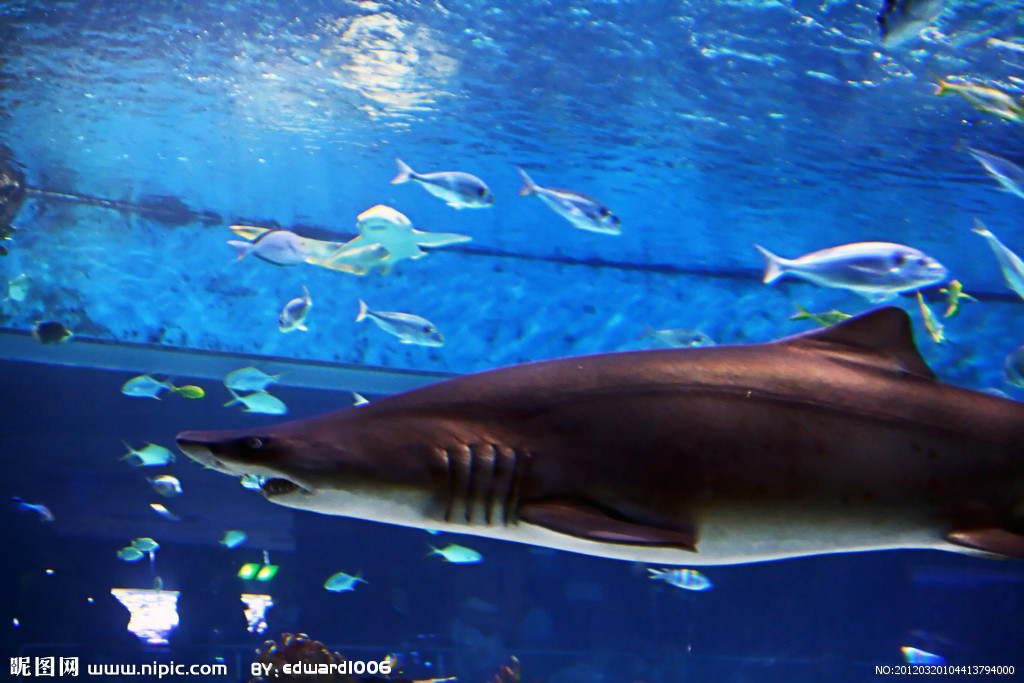shark: (167, 289, 1024, 607)
